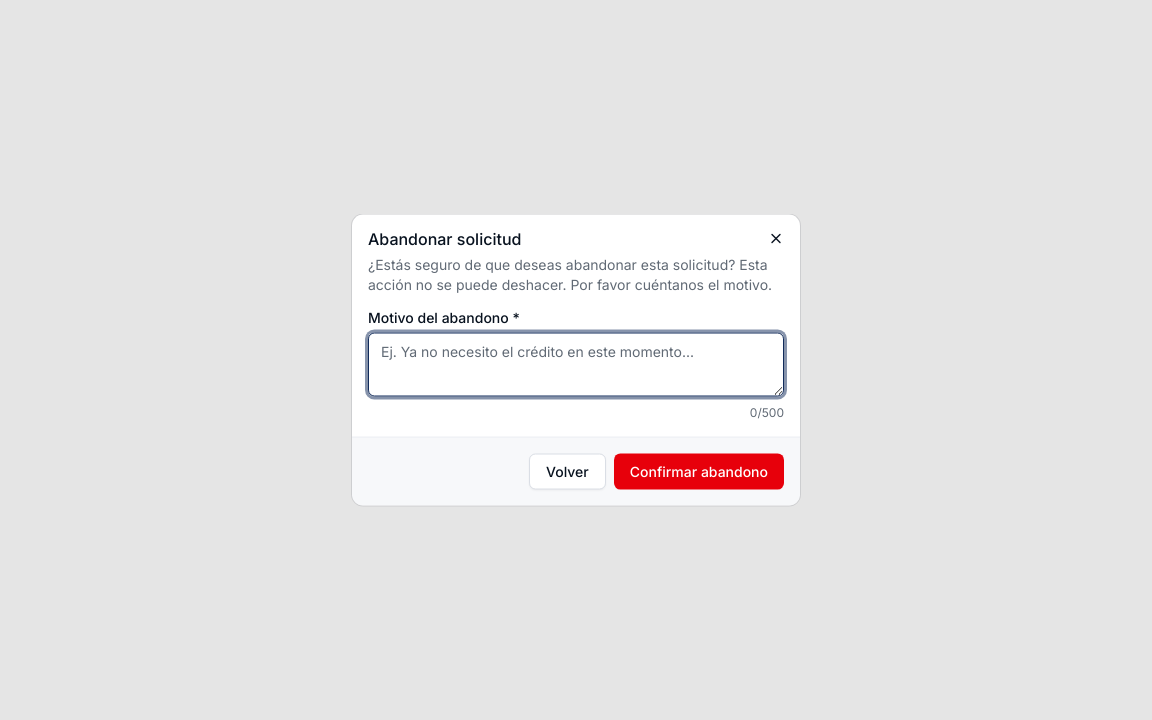
AbandonDialog — validación del motivo › muestra error de validación cuando el motivo es muy corto (< 5 chars)
Type "Hola" into the text box labelled "Motivo del abandono *" at (576, 364), box [368,332,784,396]
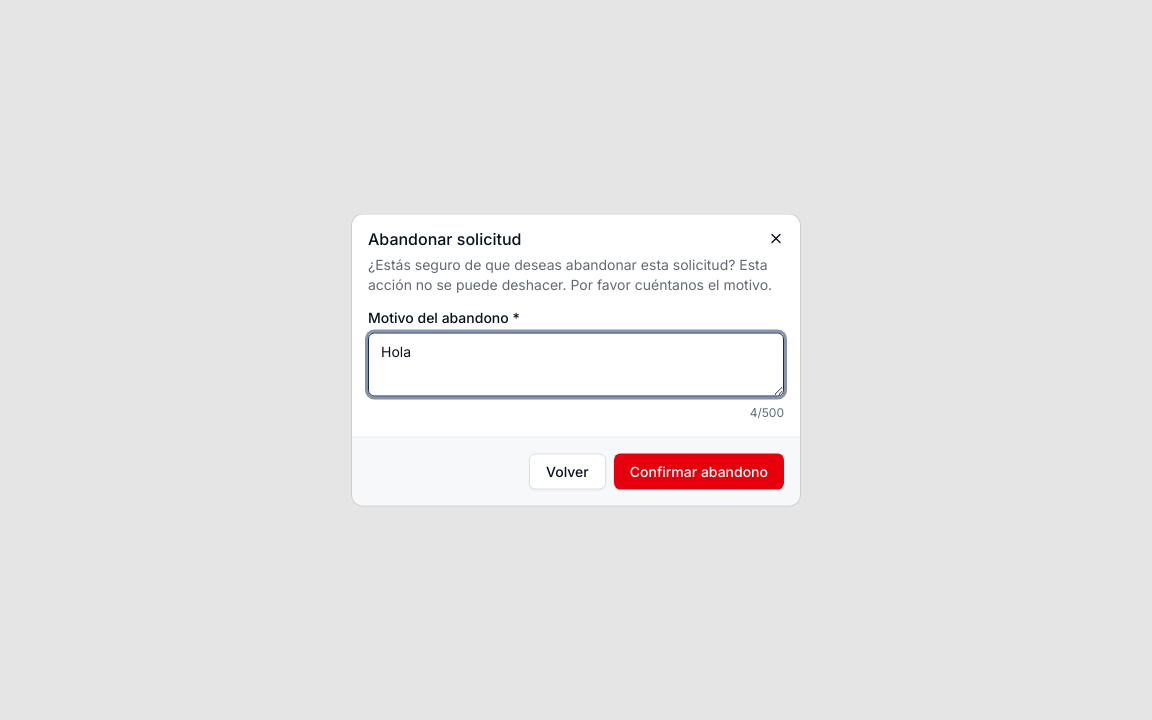
Click the button "Confirmar abandono" at (699, 472), box [614,454,784,490]
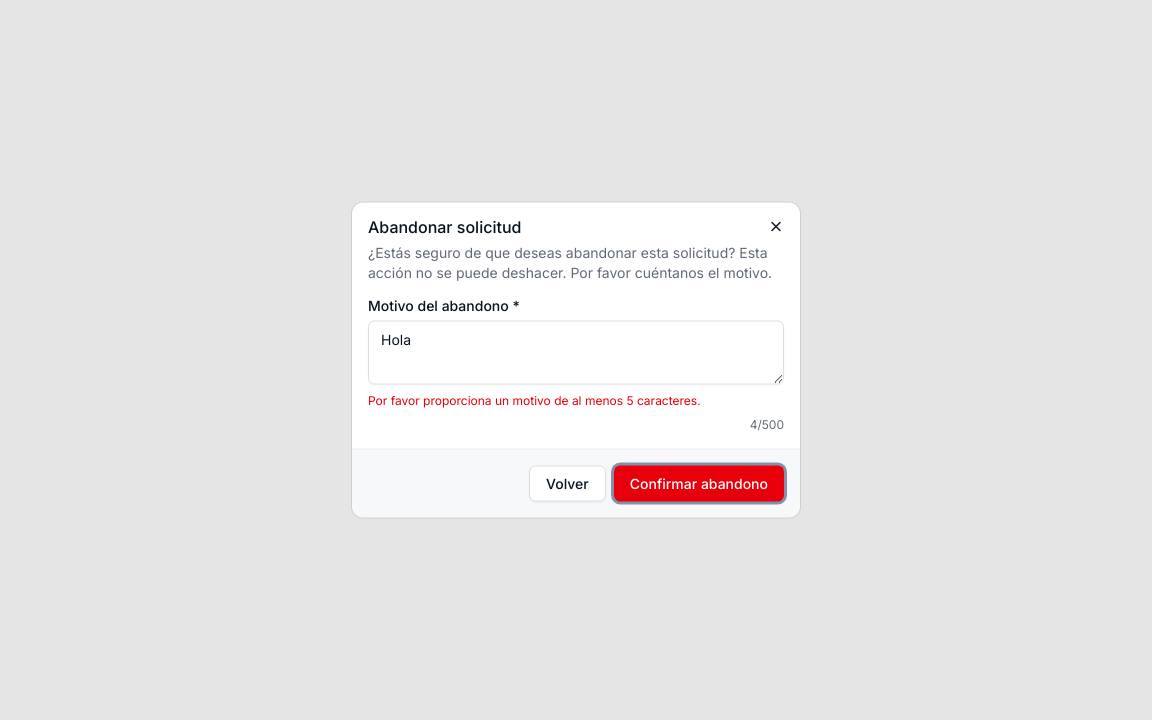
Check: the message reads "Por favor proporciona un motivo de al menos 5 caracteres.", box [368,392,701,408]
